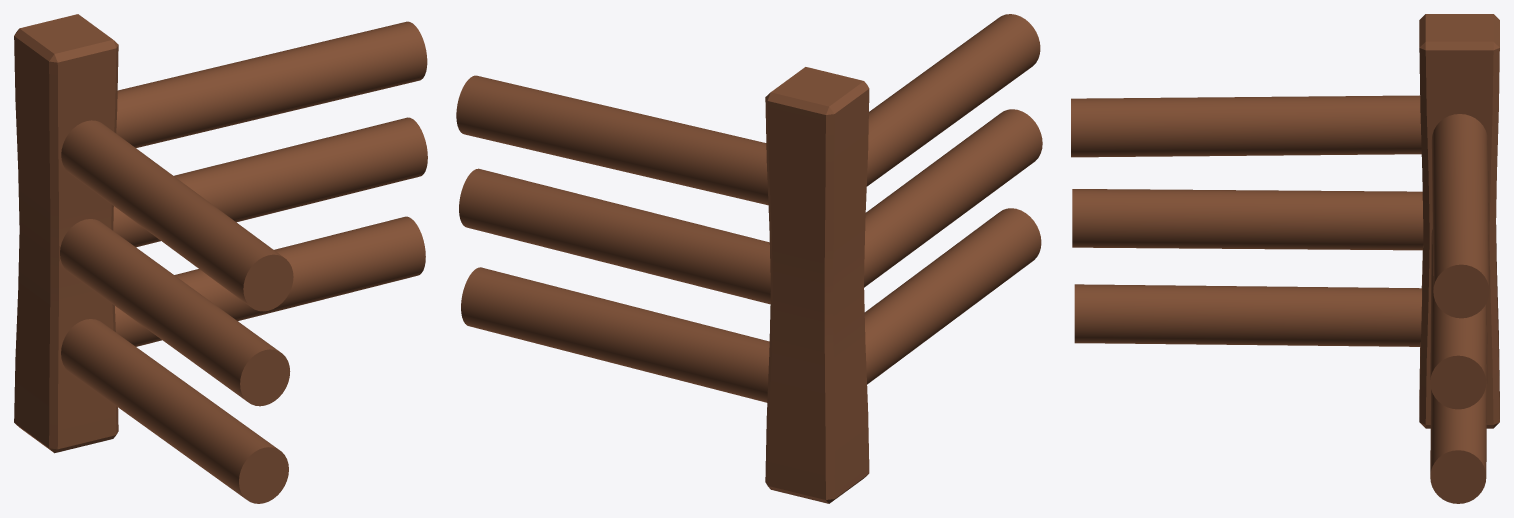
Rendered from Fence_Outer.fbx.
3 renders of one model, left to right at view 1: azimuth 30°, elevation 25°; view 2: azimuth 150°, elevation 25°; view 3: azimuth 270°, elevation 25°, orthographic. The views are drawn at different scales.
Visible parts, largest first — view 1: Fence Outer; view 2: Fence Outer; view 3: Fence Outer.
Boxes of the visible parts, bbox=[...] form: Fence Outer: bbox=[14, 14, 427, 503]; Fence Outer: bbox=[456, 14, 1042, 503]; Fence Outer: bbox=[1071, 14, 1499, 503].
Size of the model in its own units: 200 by 200 by 201.
